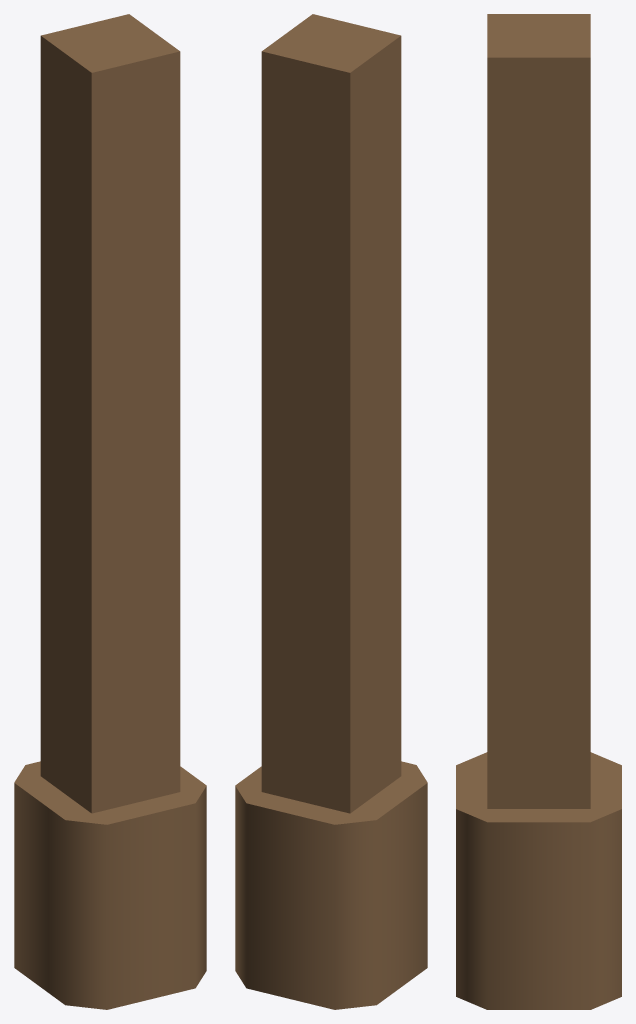
The model's file is kit-fence-post.glb.
3 renders of one model, left to right at view 1: azimuth 30°, elevation 25°; view 2: azimuth 150°, elevation 25°; view 3: azimuth 270°, elevation 25°, orthographic.
Visible parts, largest first — view 1: pillar-wood; view 2: pillar-wood; view 3: pillar-wood.
Boxes of the visible parts, bbox=[...] form: pillar-wood: bbox=[14, 14, 206, 1009]; pillar-wood: bbox=[235, 14, 427, 1009]; pillar-wood: bbox=[456, 14, 621, 1009].
Size of the model in its own units: 0.192 by 1.2 by 0.192.
